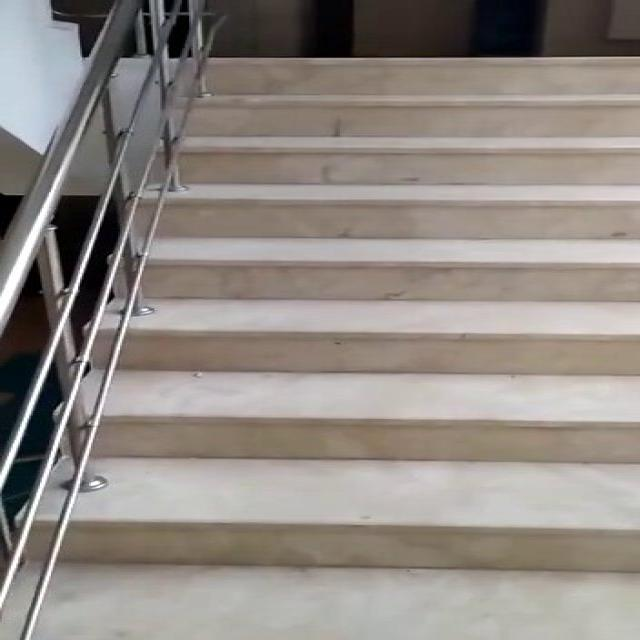stair: (95, 55, 640, 640)
